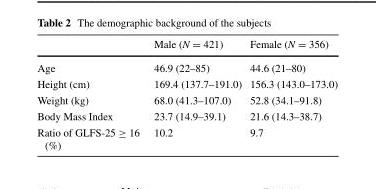table: (36, 37, 336, 150)
table column: (36, 37, 146, 150), (146, 37, 245, 150), (245, 37, 336, 150)
table column header: (36, 37, 336, 59)
table row: (36, 123, 336, 150), (36, 37, 336, 59), (36, 59, 336, 75), (36, 75, 336, 91), (36, 91, 336, 107), (36, 107, 336, 123)
